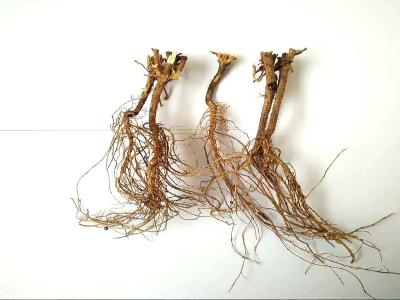Root: (206, 48, 387, 263), (78, 49, 197, 236)
